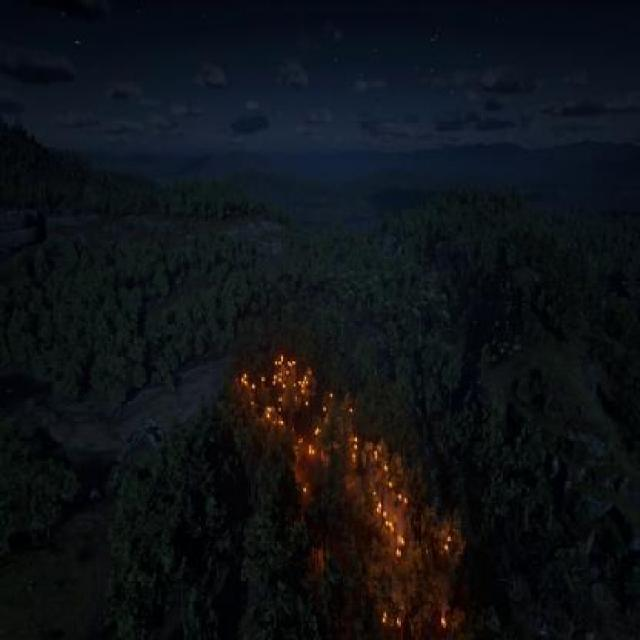Fire: (220, 324, 470, 638)
